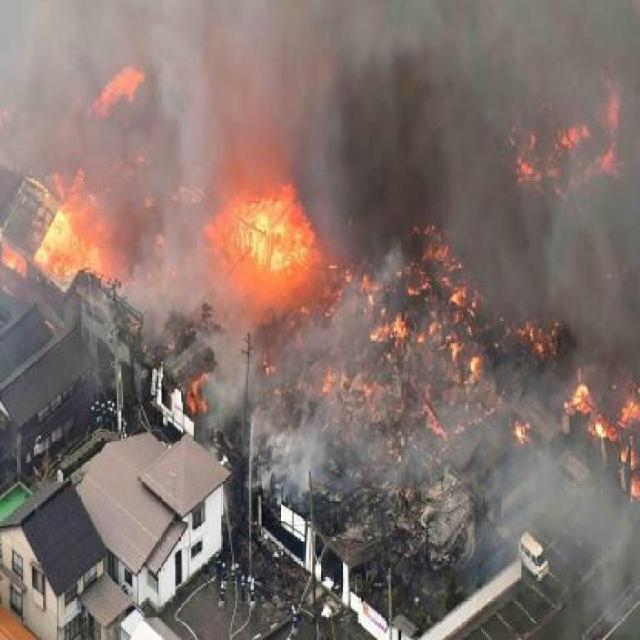Fire: (382, 214, 640, 501), (190, 165, 338, 330), (9, 165, 140, 322)
Smoke: (144, 0, 638, 192)
